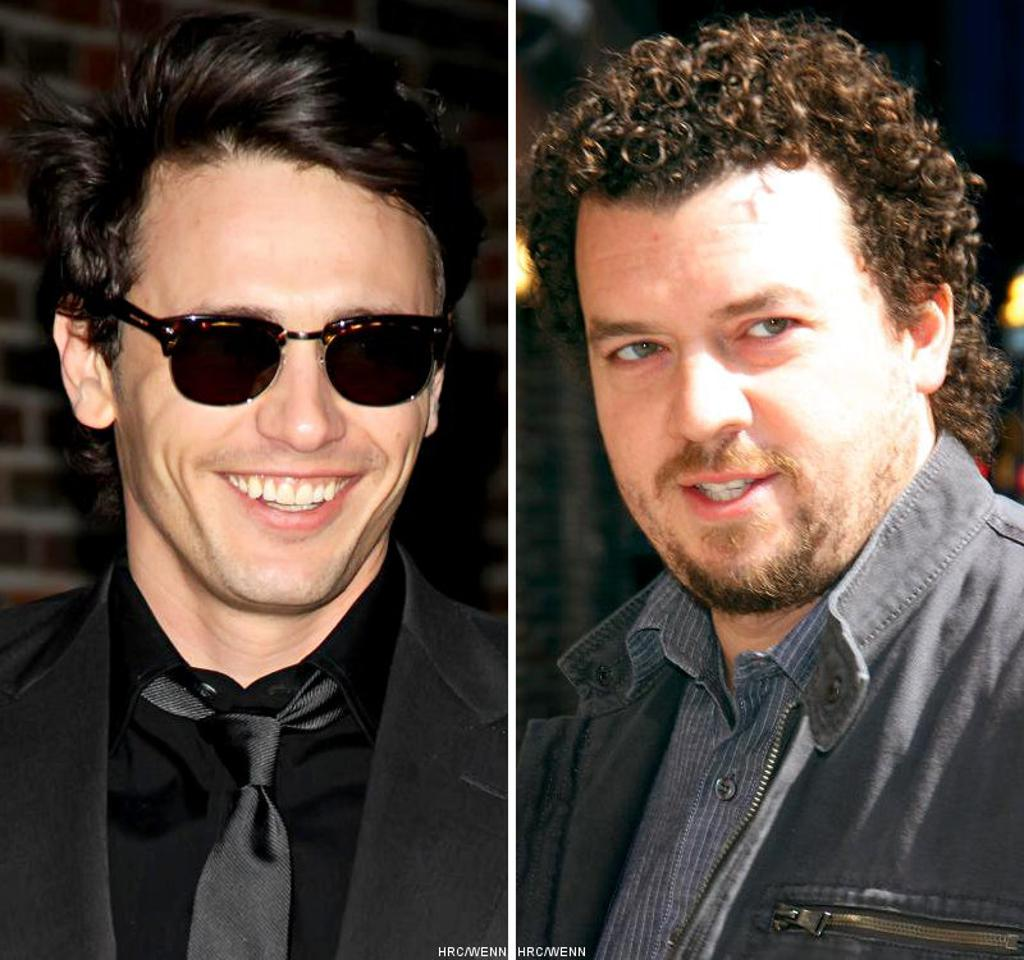face: (574, 168, 908, 602), (132, 164, 430, 606)
